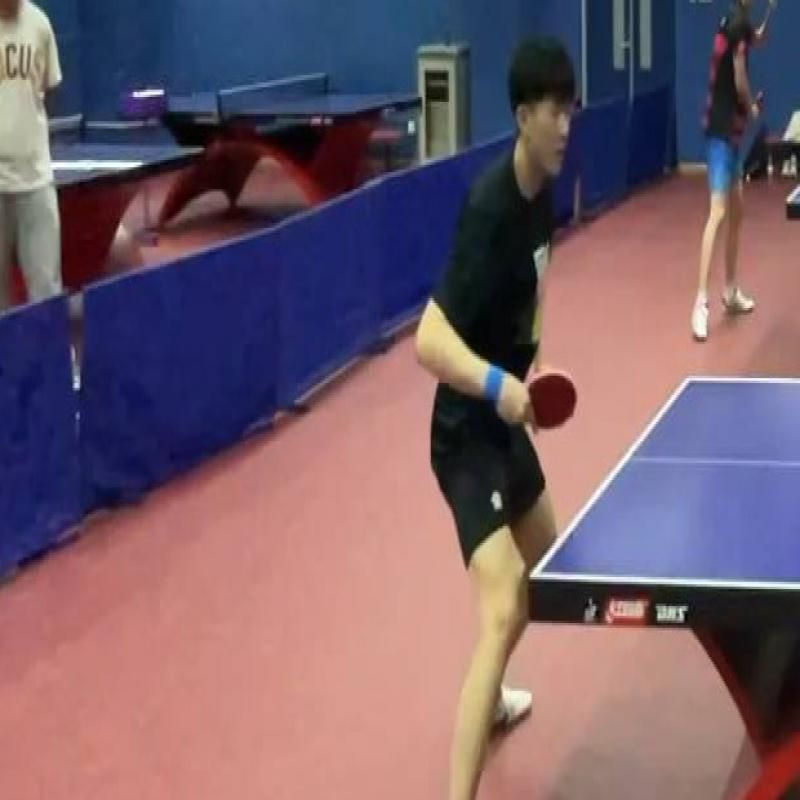bats: (511, 337, 591, 444)
